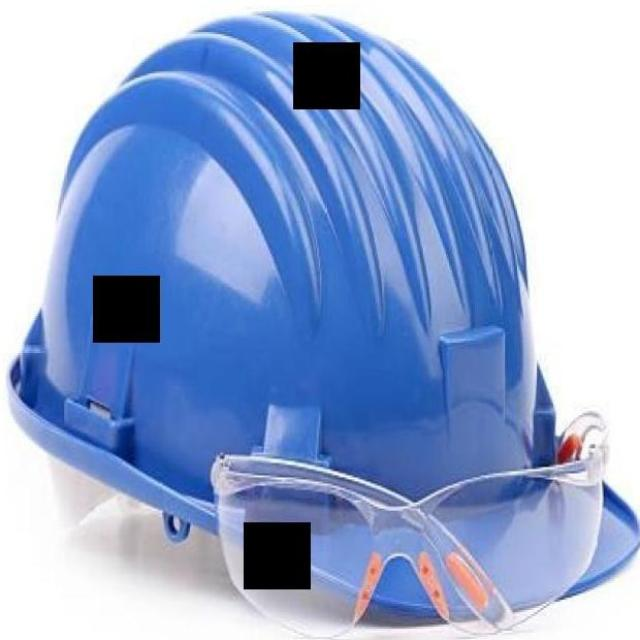blue helmet: (1, 14, 640, 623)
